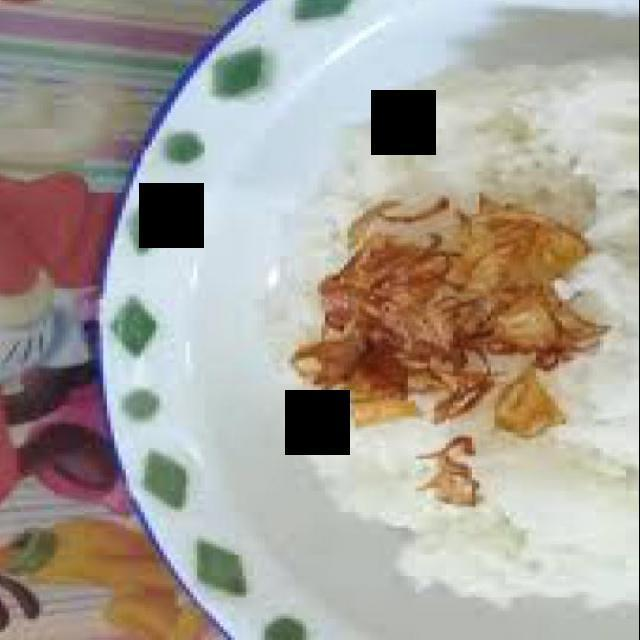Chicken -Chicken Inasal-: (270, 61, 639, 610)
